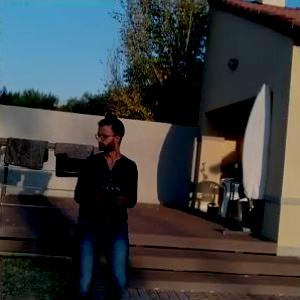follow: (69, 115, 142, 299)
